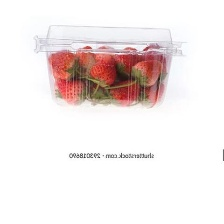plastic_box: (26, 13, 194, 115)
